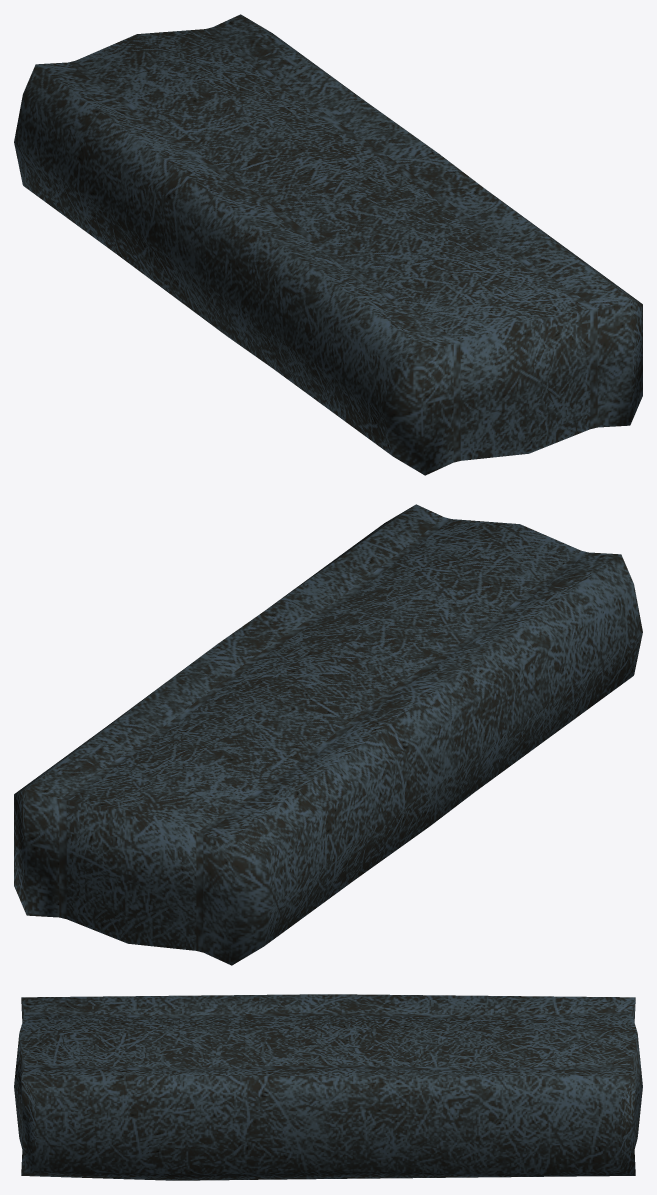
The model's file is bigHay.fbx.
3 views of the same model, one above another, from view 1: azimuth 30°, elevation 25°; view 2: azimuth 150°, elevation 25°; view 3: azimuth 270°, elevation 25° (orthographic). The views are drawn at different scales.
Visible parts, largest first — view 1: bigHay; view 2: bigHay; view 3: bigHay.
Boxes of the visible parts, x1,y1,x2,y2 form: bigHay: (14,14,642,475); bigHay: (14,504,642,965); bigHay: (14,994,642,1180).
Bounding box in the file's own units: 1.61 × 0.8038 × 4.15.
